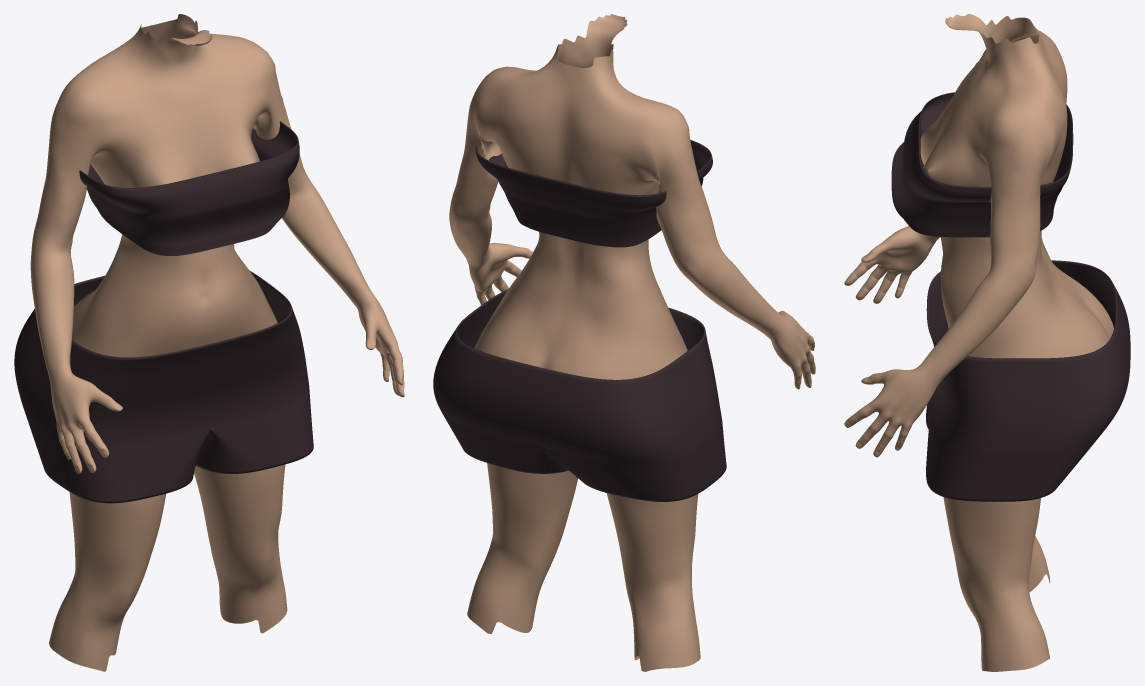
The model's file is body.glb.
3 renders of one model, left to right at view 1: azimuth 30°, elevation 25°; view 2: azimuth 150°, elevation 25°; view 3: azimuth 270°, elevation 25°, orthographic. The views are drawn at different scales.
Parts seen in each view (by area): view 1: AVA_Body, AVA_Shorts, AVA_Bandeau; view 2: AVA_Body, AVA_Shorts, AVA_Bandeau; view 3: AVA_Body, AVA_Shorts, AVA_Bandeau.
Boxes of the visible parts, x1,y1,x2,y2 form: AVA_Body: (30, 14, 404, 671); AVA_Shorts: (14, 271, 313, 503); AVA_Bandeau: (79, 121, 299, 255); AVA_Body: (449, 14, 815, 671); AVA_Shorts: (433, 289, 726, 501); AVA_Bandeau: (475, 140, 712, 247); AVA_Body: (844, 14, 1113, 671); AVA_Shorts: (926, 260, 1130, 501); AVA_Bandeau: (891, 92, 1073, 237).
Size of the model in its own units: 0.6196 by 1.11 by 0.4692.
